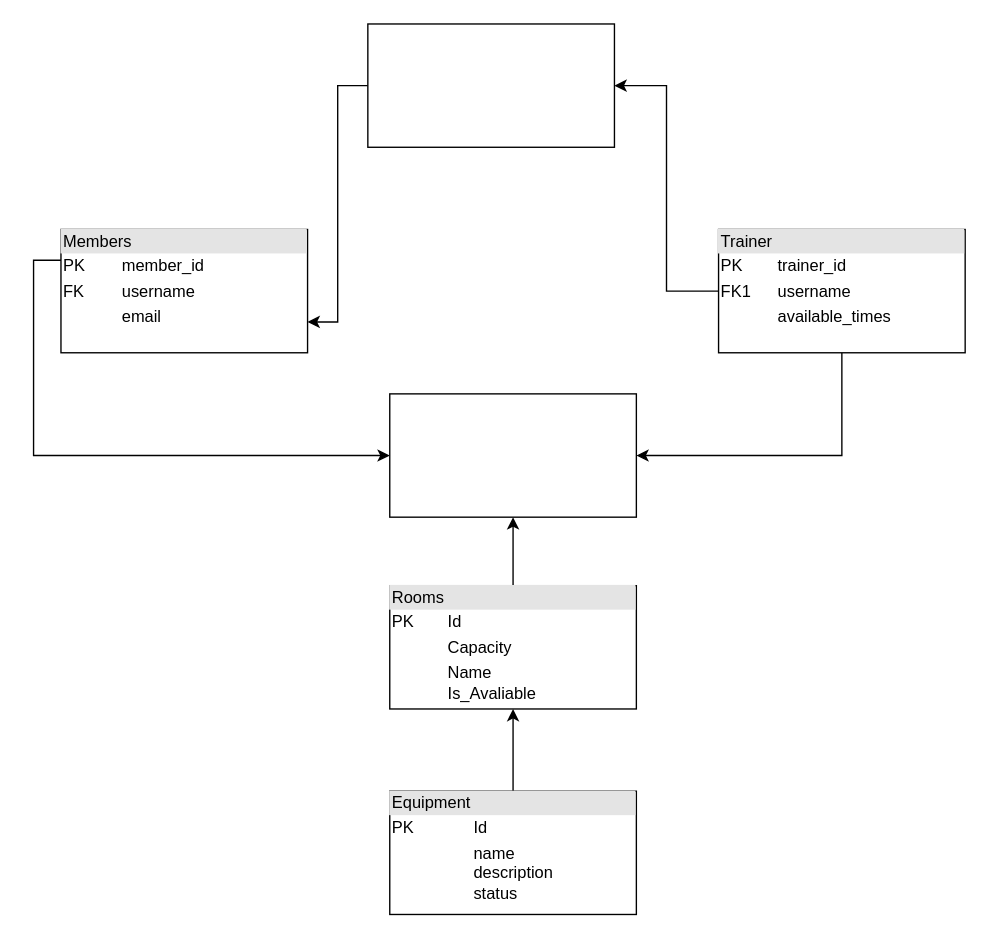
This 989x938 diagram has some shape labels left out. The centre of each missing label's shape, as x and y in pixels:
"Accounts PK username password perms" belongs at (x=490, y=85).
"Trainer_sessions PK Id FK Member ID Trainer ID Datetime" belongs at (x=512, y=455).
